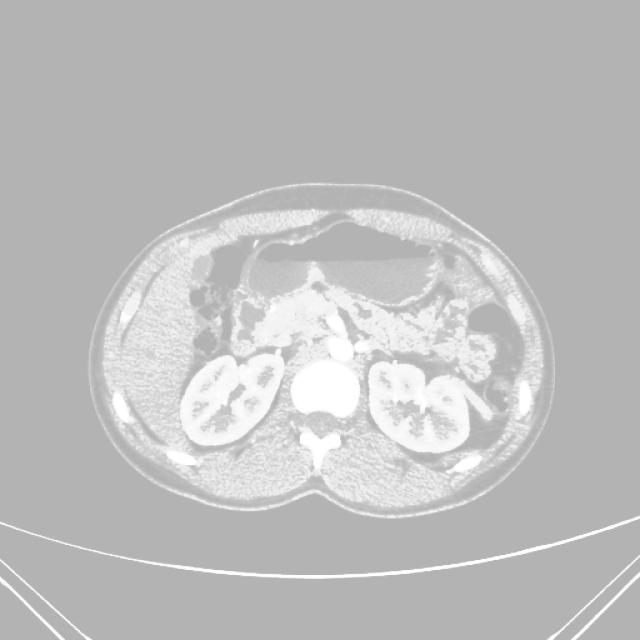NORMAL: (52, 148, 567, 558)
